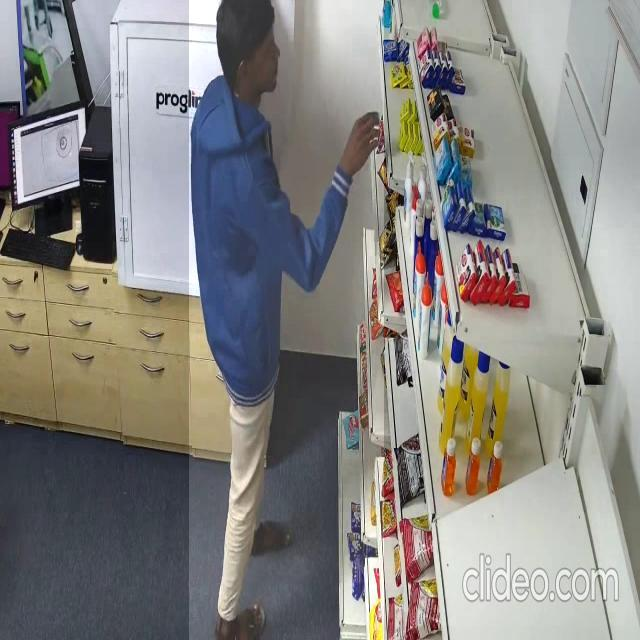normal: (189, 0, 384, 640)
